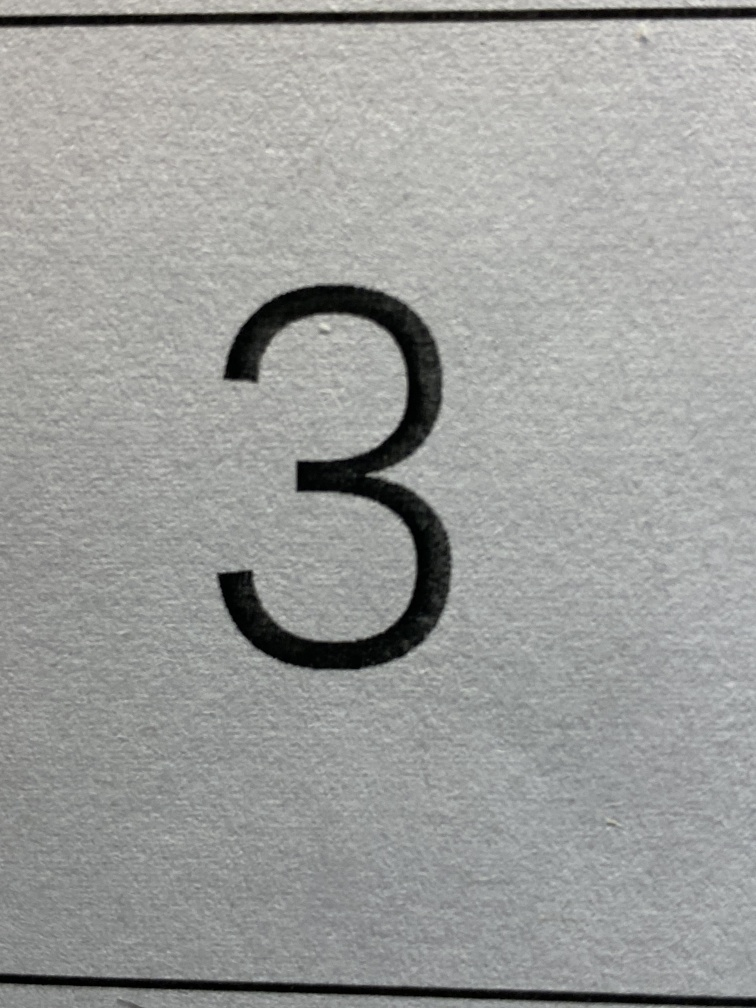three: (146, 251, 518, 722)
